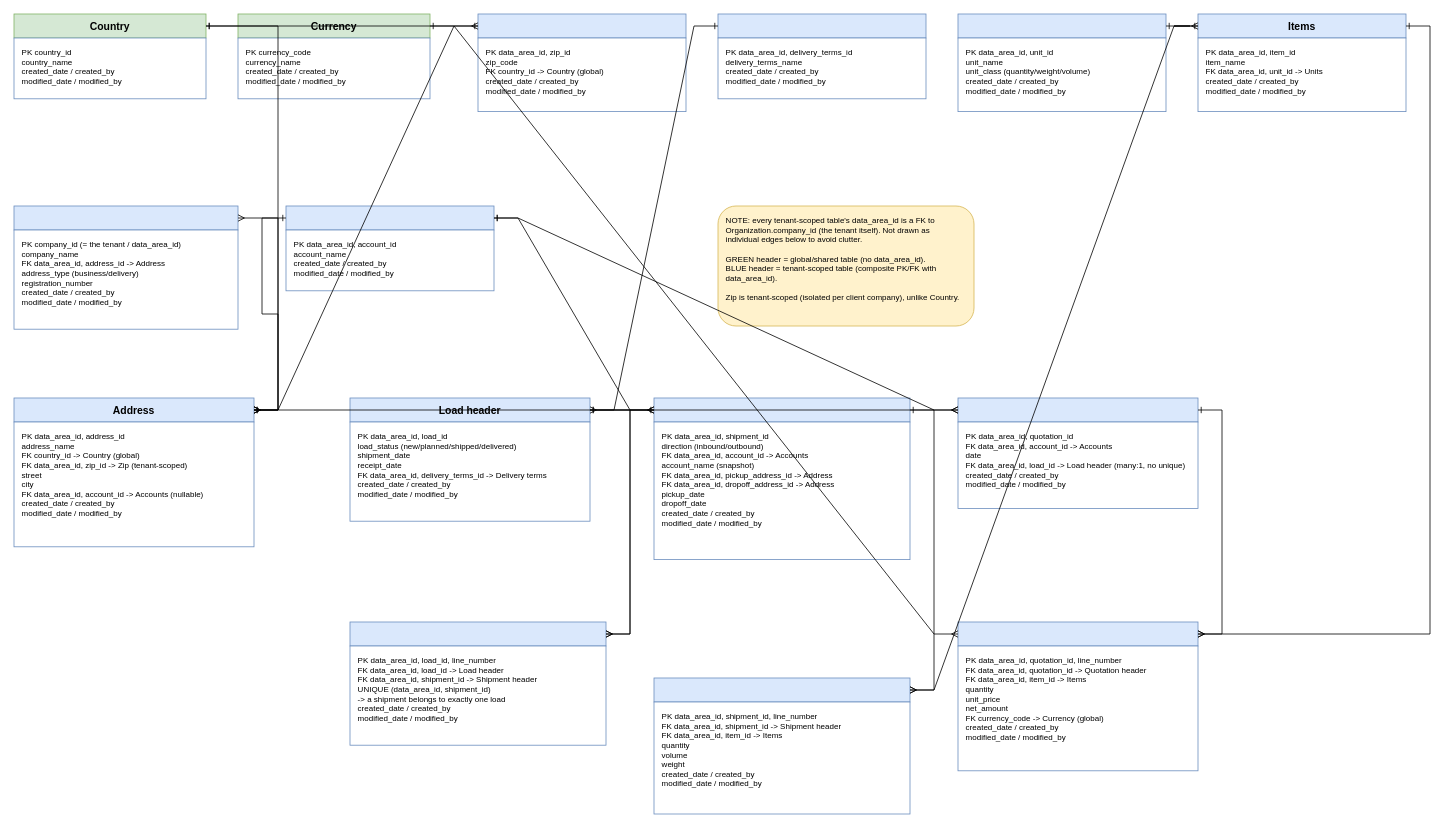
Image size: 1451x828. Some labels were removed from this diagram. Here are the shapes that lost their labels. From the top down, the centre of each, then its label:
the point at 581,25: Zip
the point at 821,25: Delivery terms
the point at 1061,25: Units
the point at 125,217: Organization
the point at 389,217: Accounts
the point at 781,409: Shipment header
the point at 1077,409: Quotation header
the point at 477,633: Load lines
the point at 1077,633: Quotation line
the point at 781,689: Shipment line
